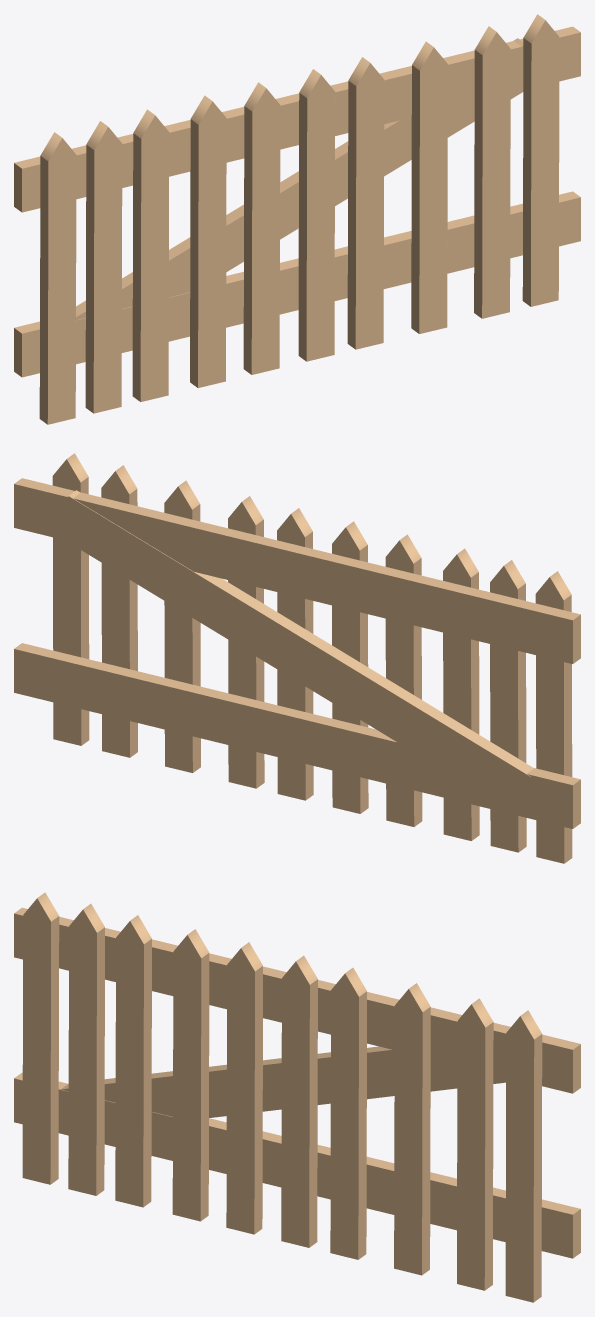
File: ZaunB.fbx
3 renders of one model, top to bottom at view 1: azimuth 30°, elevation 25°; view 2: azimuth 150°, elevation 25°; view 3: azimuth 330°, elevation 25°, orthographic.
Visible parts, largest first — view 1: Planke1, Planke2, Pfahl5, Pfahl16, Pfahl10, Pfahl17, Pfahl2, Pfahl8, Pfahl4, Pfahl9, Pfahl7, Pfahl1 (+1 smaller); view 2: Planke1, Planke2, Planke3, Pfahl17, Pfahl4, Pfahl1, Pfahl5, Pfahl2, Pfahl16, Pfahl10, Pfahl8, Pfahl7 (+1 smaller); view 3: Planke1, Planke2, Pfahl16, Pfahl8, Pfahl2, Pfahl1, Pfahl7, Pfahl9, Pfahl5, Pfahl10, Pfahl17, Pfahl4 (+1 smaller).
Boxes of the visible parts, <box> form: Planke1: <box>14,26,580,212</box>; Planke2: <box>14,191,580,377</box>; Pfahl5: <box>474,26,510,318</box>; Pfahl16: <box>411,41,447,333</box>; Pfahl10: <box>190,95,226,387</box>; Pfahl17: <box>39,132,76,424</box>; Pfahl2: <box>132,109,169,401</box>; Pfahl8: <box>298,69,335,361</box>; Pfahl4: <box>522,14,559,306</box>; Pfahl9: <box>243,82,280,374</box>; Pfahl7: <box>347,57,384,349</box>; Pfahl1: <box>85,121,122,413</box>; Planke1: <box>14,478,580,663</box>; Planke2: <box>14,643,580,828</box>; Planke3: <box>55,490,533,814</box>; Pfahl17: <box>535,571,572,863</box>; Pfahl4: <box>52,453,89,745</box>; Pfahl1: <box>490,560,526,852</box>; Pfahl5: <box>101,465,137,757</box>; Pfahl2: <box>443,548,479,840</box>; Pfahl16: <box>164,480,200,772</box>; Pfahl10: <box>385,534,422,826</box>; Pfahl8: <box>277,508,313,800</box>; Pfahl7: <box>228,496,264,788</box>; Planke1: <box>14,907,580,1093</box>; Planke2: <box>14,1072,580,1258</box>; Pfahl16: <box>394,983,430,1275</box>; Pfahl8: <box>281,955,317,1247</box>; Pfahl2: <box>115,915,151,1207</box>; Pfahl1: <box>68,903,104,1195</box>; Pfahl7: <box>330,967,366,1259</box>; Pfahl9: <box>226,942,262,1234</box>; Pfahl5: <box>457,998,493,1290</box>; Pfahl10: <box>172,929,209,1221</box>; Pfahl17: <box>22,892,59,1184</box>; Pfahl4: <box>505,1010,542,1302</box>.
Bounding box in the file's own units: 200 × 96.94 × 10.54.
1 material, 1 textured.
